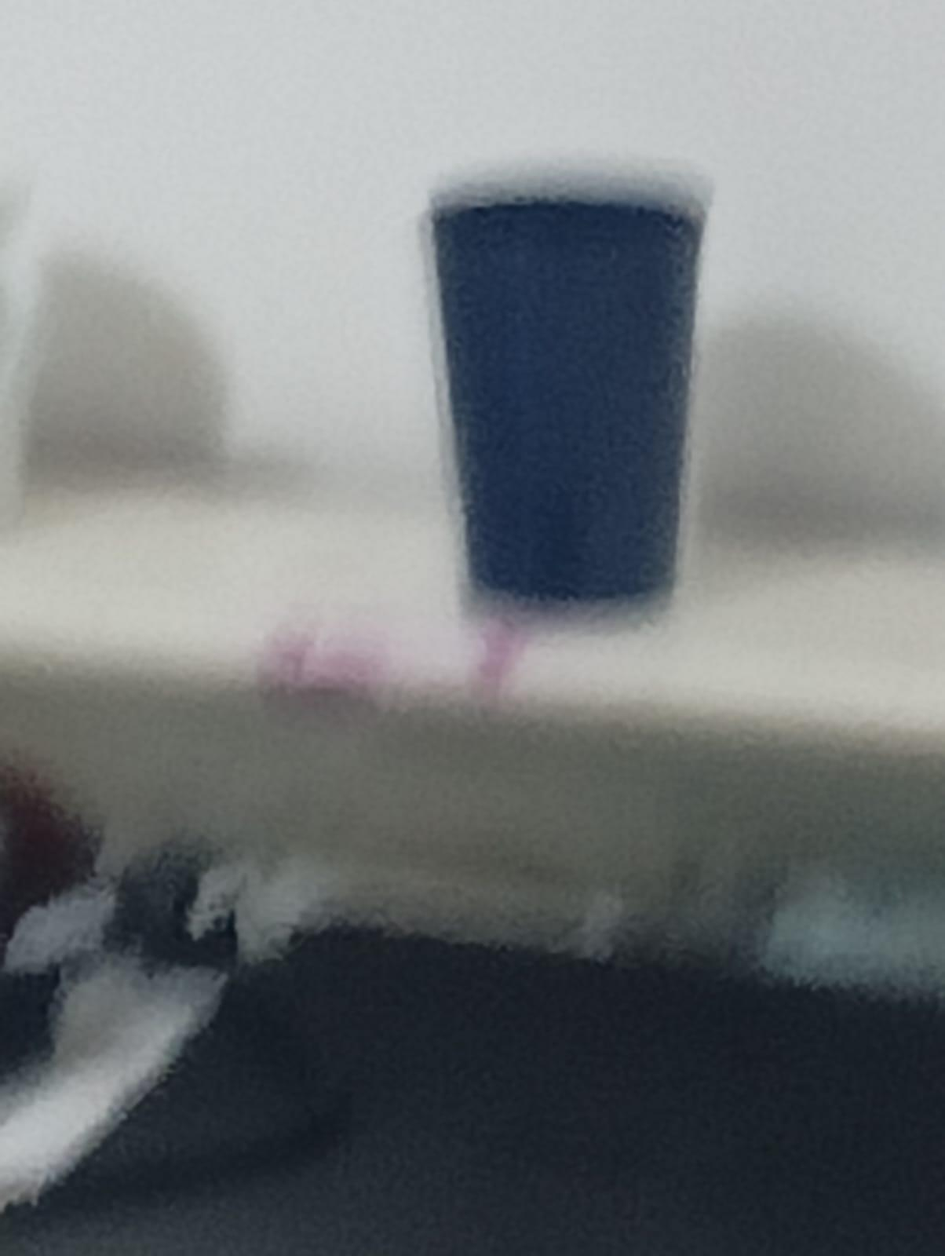cup: (430, 180, 705, 603)
